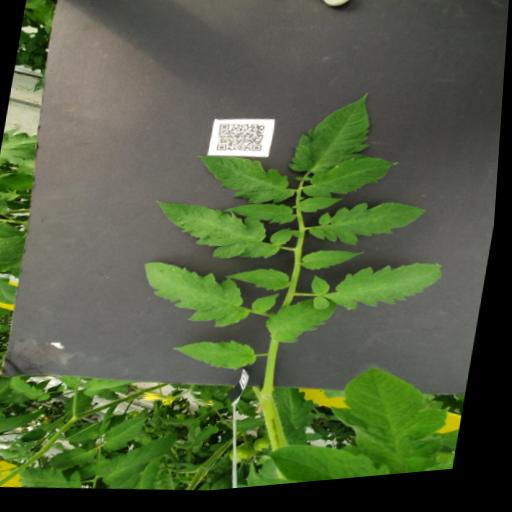Healthy: (322, 363, 461, 488), (149, 192, 302, 276), (138, 254, 262, 340), (310, 257, 449, 329), (289, 90, 381, 186), (265, 436, 417, 492), (308, 197, 433, 262), (190, 152, 302, 217), (100, 425, 185, 496), (302, 154, 403, 213), (267, 296, 344, 354), (173, 336, 264, 382), (0, 395, 55, 445), (224, 201, 301, 235), (227, 265, 295, 301), (273, 390, 325, 437), (19, 463, 90, 495), (107, 413, 157, 458), (303, 250, 368, 281), (85, 375, 146, 404), (52, 444, 104, 476), (11, 373, 58, 406), (301, 198, 347, 223), (0, 232, 29, 271), (0, 167, 37, 197), (0, 268, 23, 307), (254, 294, 285, 321), (235, 417, 272, 439), (198, 427, 225, 451), (0, 355, 5, 401)
